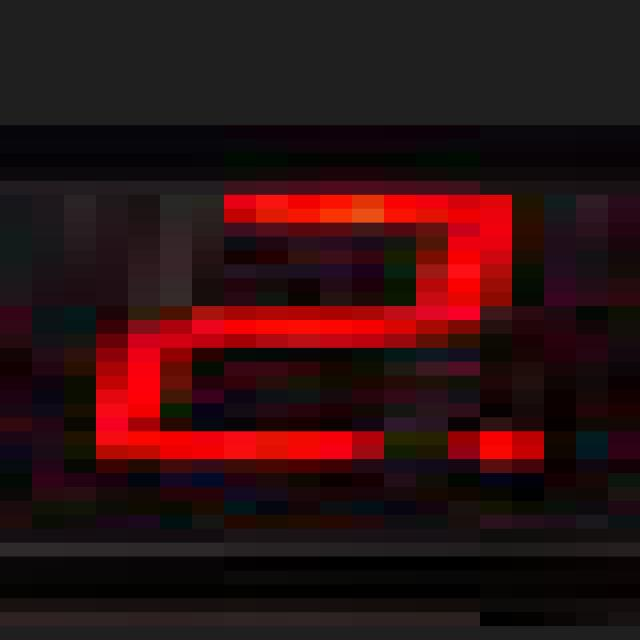.: (457, 424, 564, 468)
2: (33, 158, 629, 510)
